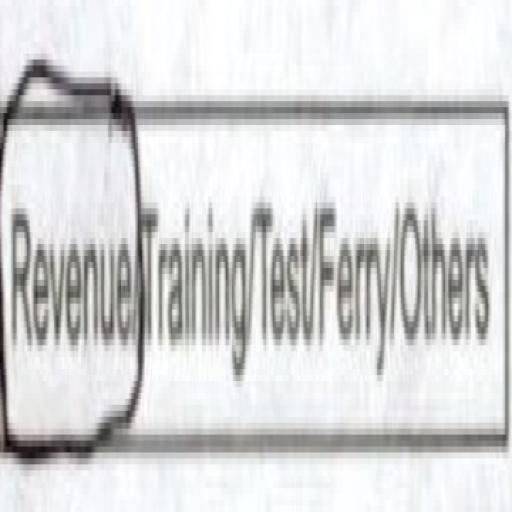check: (0, 43, 142, 461)
